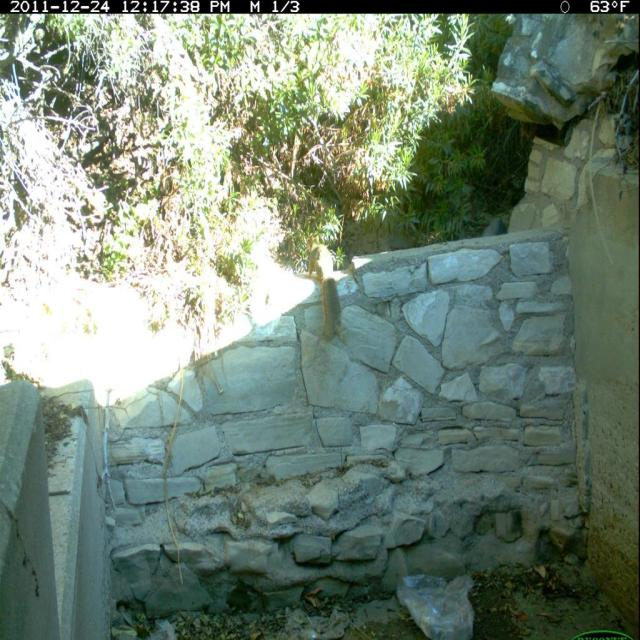squirrel: (303, 232, 347, 348)
